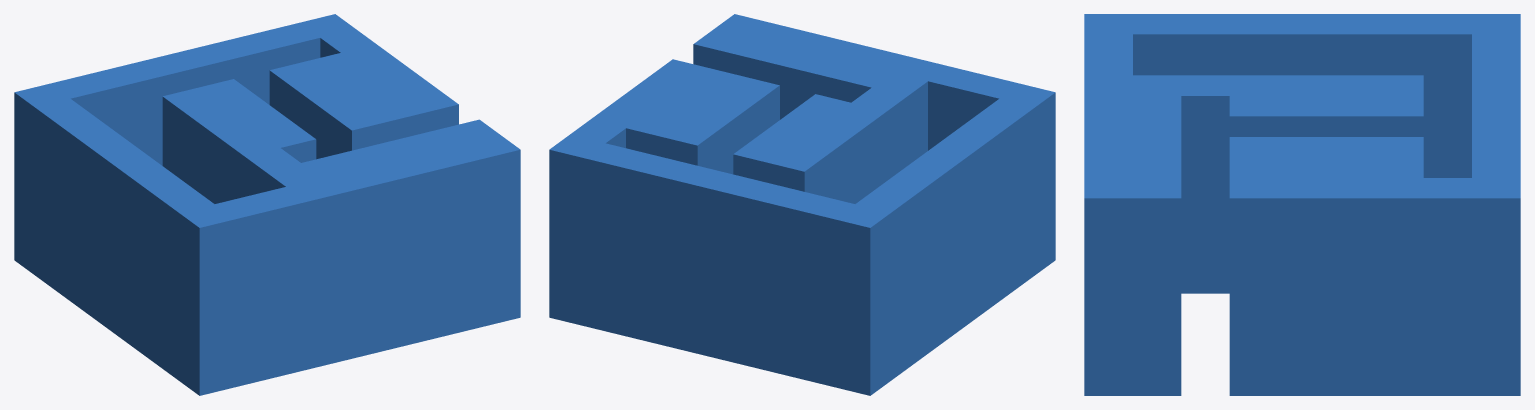
The model's file is shop.fbx.
The picture shows the model from 3 angles, left to right: view 1: azimuth 30°, elevation 25°; view 2: azimuth 150°, elevation 25°; view 3: azimuth 270°, elevation 25°; orthographic projection. The views are drawn at different scales.
Visible parts, largest first — view 1: Grid; view 2: Grid; view 3: Grid.
Boxes of the visible parts, x1,y1,x2,y2 form: Grid: (14,14,520,395); Grid: (549,14,1055,395); Grid: (1084,14,1520,395).
Size of the model in its own units: 4000 by 2000 by 4000.
